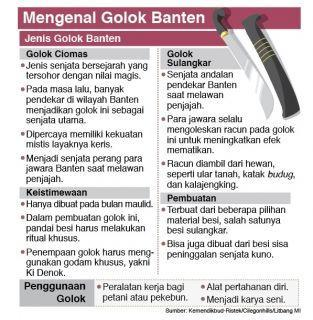facao: (213, 8, 275, 122)
